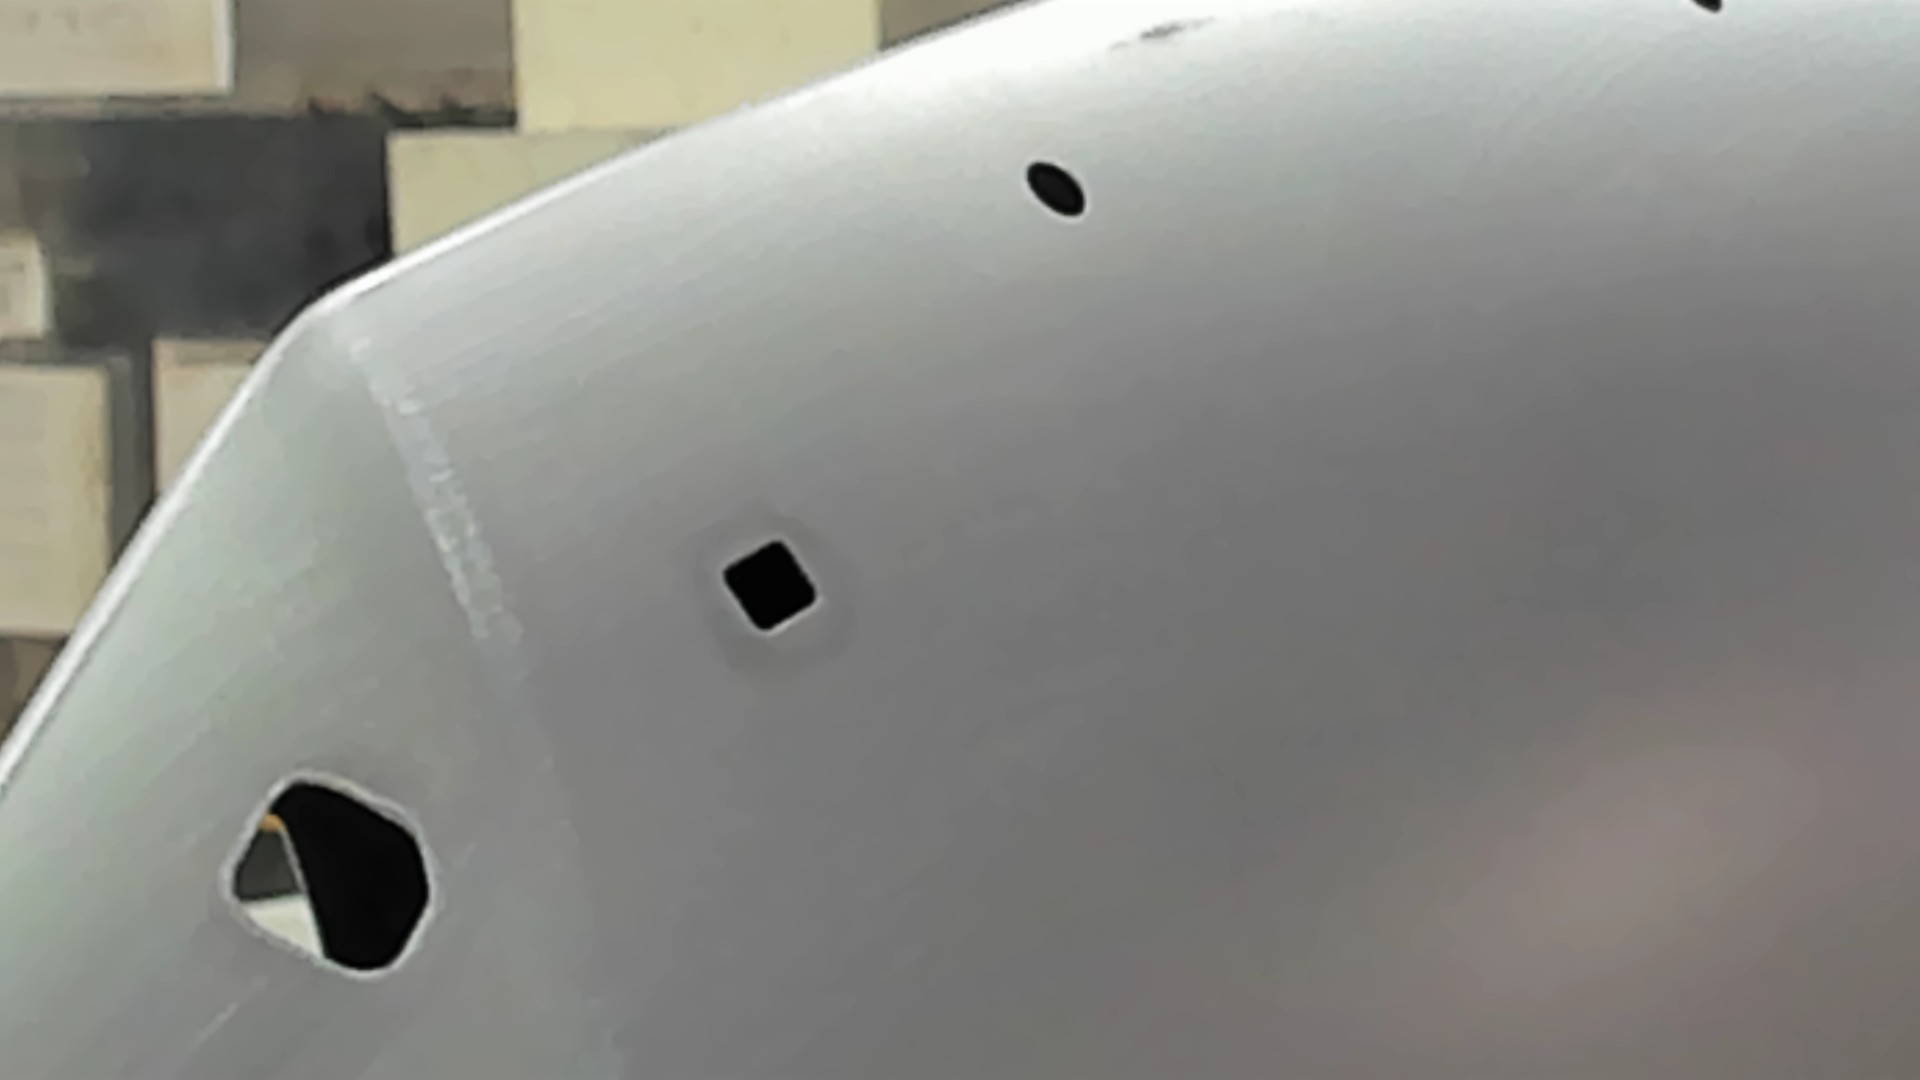chico: (1021, 156, 1092, 223), (1691, 1, 1727, 17)
grande: (214, 767, 438, 985)
mediano: (713, 533, 823, 641)
